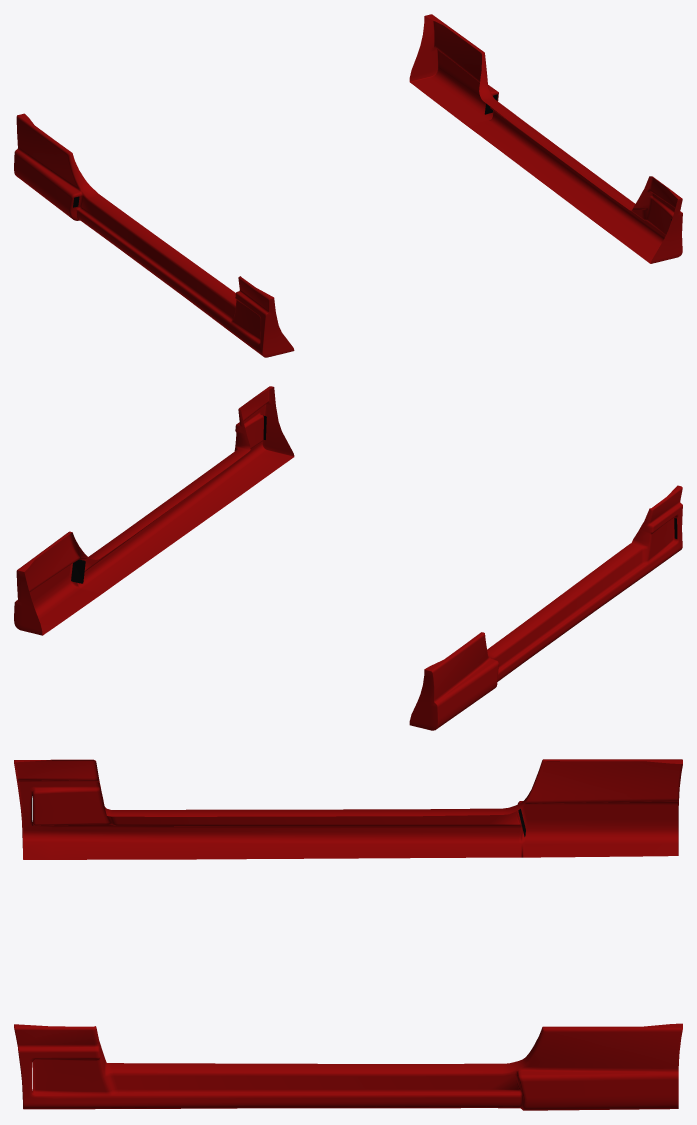
Rendered from sideskirts_originlabofujin.glb.
3 renders of one model, top to bottom at view 1: azimuth 30°, elevation 25°; view 2: azimuth 150°, elevation 25°; view 3: azimuth 270°, elevation 25°, orthographic. The views are drawn at different scales.
Parts seen in each view (by area): view 1: Sideskirts; view 2: Sideskirts; view 3: Sideskirts.
Part boxes in pixels (<box>): Sideskirts: <box>14,14,682,357</box>; Sideskirts: <box>14,386,682,730</box>; Sideskirts: <box>14,759,682,1110</box>.
Bounding box in the file's own units: 1.75 × 0.2435 × 1.78.
